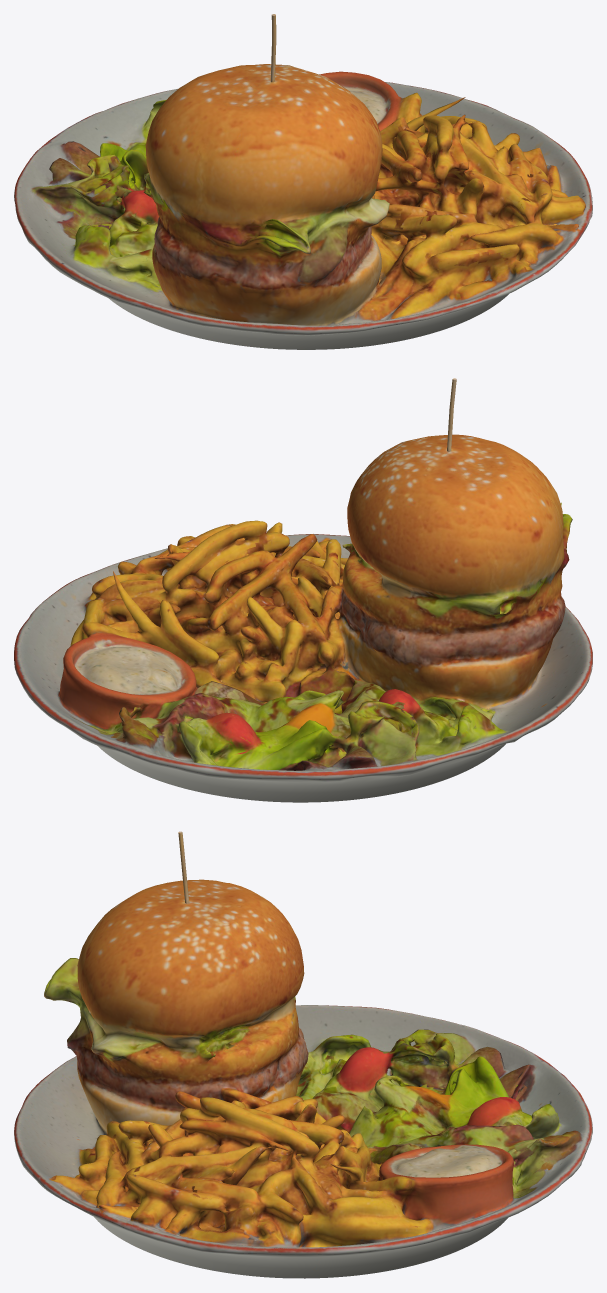
The model's file is 12_burger.glb.
3 views of the same model, one above another, from view 1: azimuth 30°, elevation 25°; view 2: azimuth 150°, elevation 25°; view 3: azimuth 270°, elevation 25° (orthographic).
Visible parts, largest first — view 1: Final; view 2: Final; view 3: Final.
Part boxes in pixels (x1,y1,x2,y2): Final: (14,14,592,349); Final: (14,378,592,802); Final: (14,831,592,1278).
Bounding box in the file's own units: 0.3901 × 0.229 × 0.3908.
Materials: 1 (1 with a texture image).
